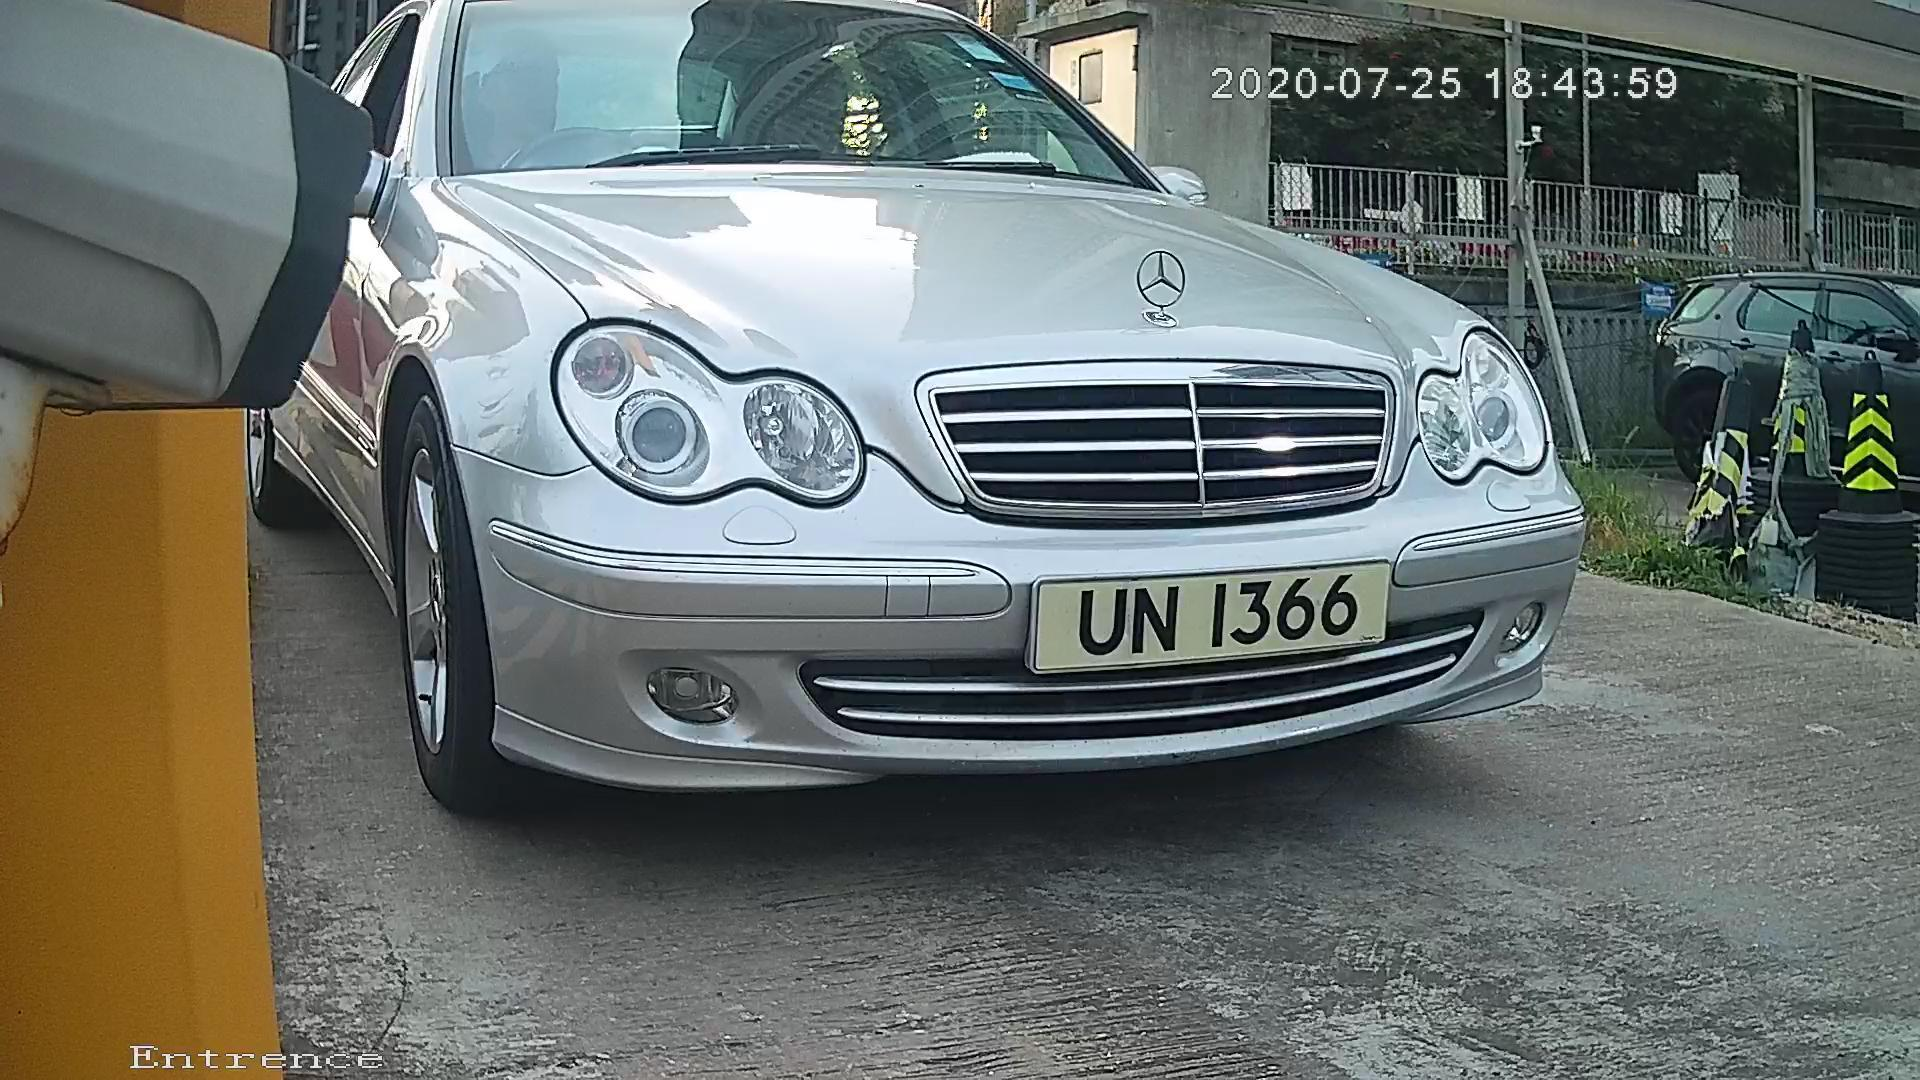privatecar: (303, 1, 1601, 855)
